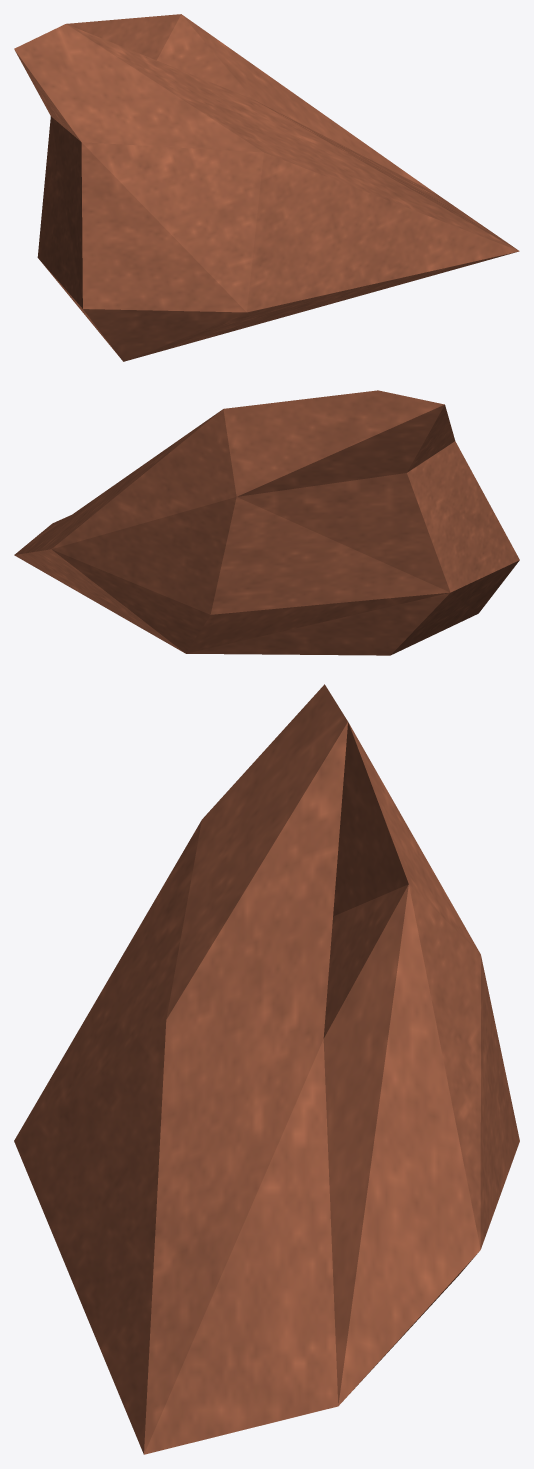
Rendered from boulder_ironstone_hogback_LOD1.glb.
3 renders of one model, top to bottom at view 1: azimuth 30°, elevation 25°; view 2: azimuth 150°, elevation 25°; view 3: azimuth 270°, elevation 25°, orthographic. The views are drawn at different scales.
Parts seen in each view (by area): view 1: boulder_ironstone_hogback_LOD1; view 2: boulder_ironstone_hogback_LOD1; view 3: boulder_ironstone_hogback_LOD1.
Boxes of the visible parts, x1,y1,x2,y2 form: boulder_ironstone_hogback_LOD1: [14, 14, 519, 361]; boulder_ironstone_hogback_LOD1: [14, 390, 519, 655]; boulder_ironstone_hogback_LOD1: [14, 684, 519, 1454].
Bounding box in the file's own units: 2.68 × 1.56 × 1.65.
1 material, 1 textured.
